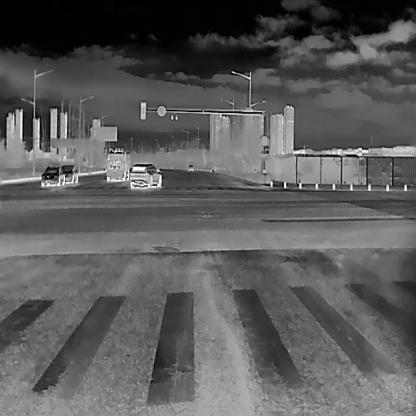car: (128, 162, 161, 187), (106, 150, 130, 182), (40, 165, 64, 185), (60, 163, 78, 182), (187, 163, 193, 171)
